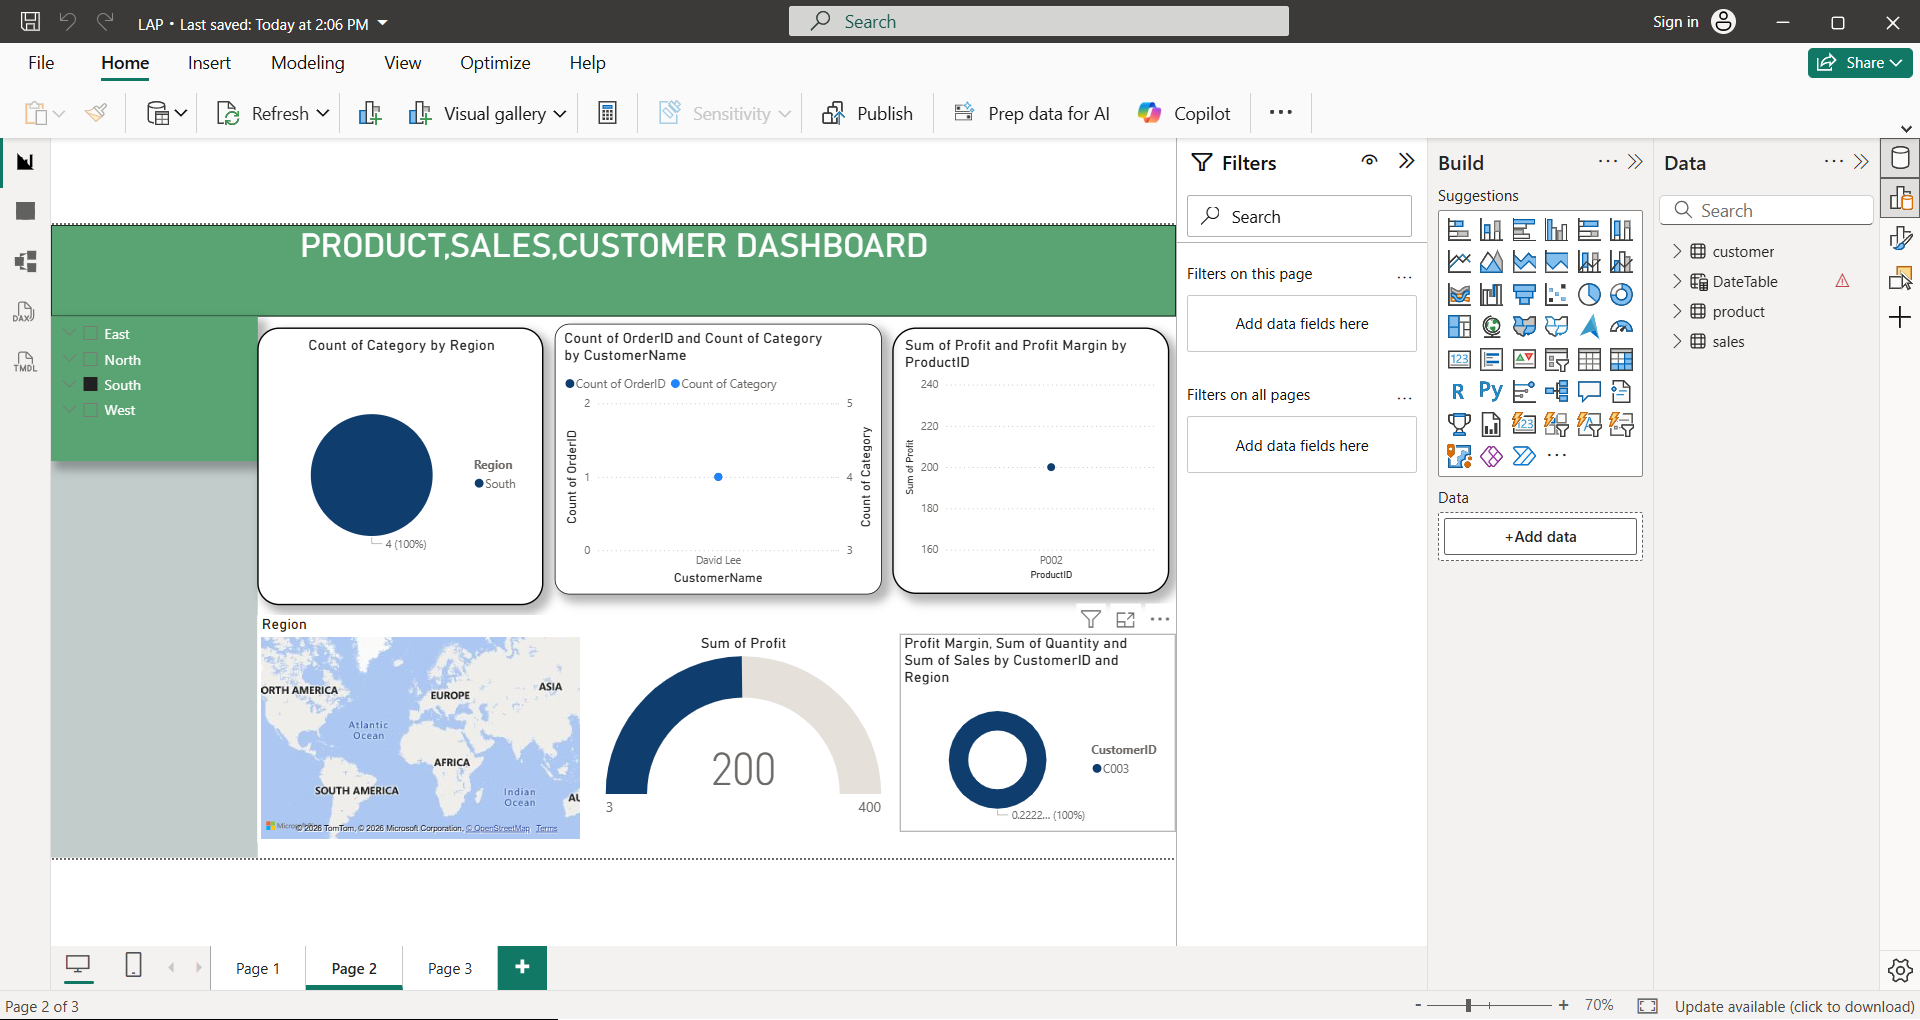

The page's visual inventory and layout, read from the dashboard file:
{"tool":"powerbi","page":{"name":"Page 2","canvas":[1280,720],"ordinal":1},"visuals":[{"type":"textbox","title":"PRODUCT,SALES,CUSTOMER DASHBOARD","box":[0,0,1280,103.8],"z":0},{"type":"textbox","box":[0,103.8,235,616.2],"z":1000},{"type":"slicer","fields":{"Values":["sales.Region","product.Category"]},"box":[0,103.8,235,165],"z":2000},{"type":"pieChart","fields":{"Category":["sales.Region"],"Y":["CountNonNull(product.Category)"]},"box":[234.5,117.2,325.7,316.2],"z":3000},{"type":"textbox","box":[350,495,210,170],"z":4000},{"type":"textbox","box":[618.8,117.5,252.5,191.2],"z":5000},{"type":"lineChart","fields":{"Category":["sales.ProductID"],"Y":["Sum(sales.Profit)"]},"box":[956.9,117.2,315,303.2],"z":6000},{"type":"areaChart","fields":{"Category":["customer.CustomerName"],"Y":["CountNonNull(sales.OrderID)"],"Y2":["CountNonNull(product.Category)"]},"box":[573.2,112.5,371.9,307.9],"z":7000},{"type":"map","fields":{"Series":["sales.Region"]},"box":[234.5,444.1,371.9,259.4],"z":8000},{"type":"gauge","title":"Sum of Profit","fields":{"MinValue":["Sum(sales.Quantity)"],"Y":["Sum(sales.Profit)"]},"box":[618.2,465.4,338.7,219.1],"z":9000},{"type":"donutChart","fields":{"Category":["sales.CustomerID"],"Series":["sales.Region"],"Y":["sales.Profit Margin"]},"box":[965.2,465.4,315,225],"z":9001}]}

Visuals, with their boxes on the page's 1280x720 design canvas (x1, y1, x2, y2). These are canvas units, not pixel positions in the 1920x1020 screenshot, which may show the page scaled, cropped or inside an application window:
"PRODUCT,SALES,CUSTOMER DASHBOARD" textbox: bbox=(0, 0, 1280, 104)
textbox: bbox=(0, 104, 235, 720)
slicer - sales.Region x product.Category: bbox=(0, 104, 235, 269)
pieChart - sales.Region x CountNonNull(product.Category): bbox=(234, 117, 560, 433)
textbox: bbox=(350, 495, 560, 665)
textbox: bbox=(619, 118, 871, 309)
lineChart - sales.ProductID x Sum(sales.Profit): bbox=(957, 117, 1272, 420)
areaChart - customer.CustomerName x CountNonNull(sales.OrderID): bbox=(573, 112, 945, 420)
map - sales.Region: bbox=(234, 444, 606, 704)
"Sum of Profit" gauge: bbox=(618, 465, 957, 684)
donutChart - sales.CustomerID x sales.Region: bbox=(965, 465, 1280, 690)
